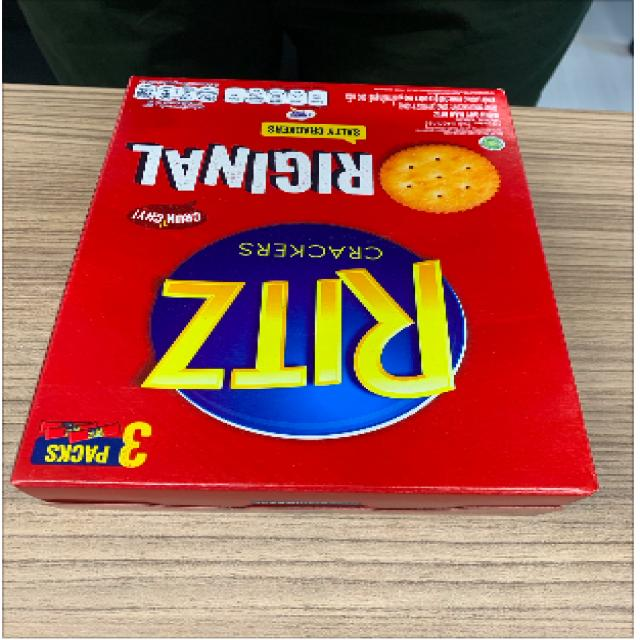object_name: (71, 82, 545, 503)
